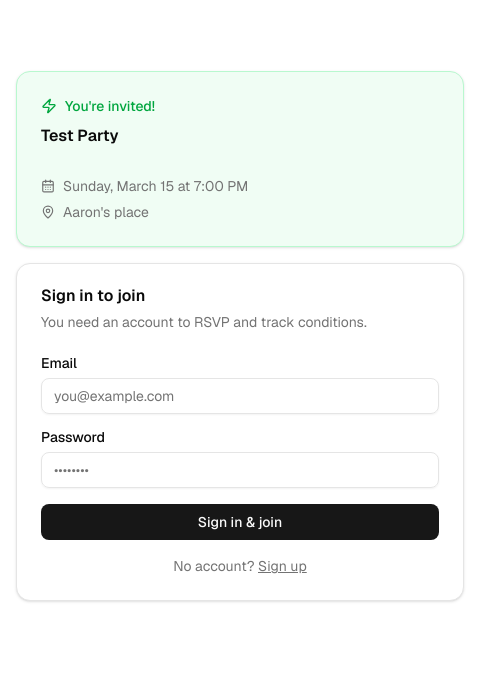
Scenario: ClaimInvite › signup flow › shows error when signup fails
Click the button "Sign up": (282, 566) [258, 556, 307, 576]
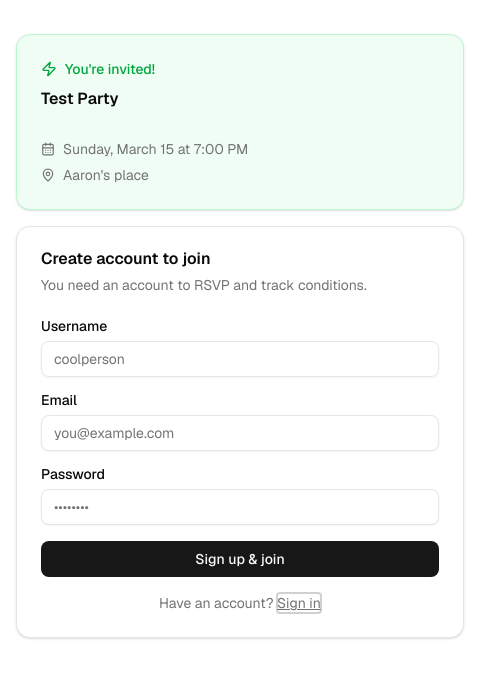
In the field with placeholder "coolperson": (240, 359) [41, 341, 439, 377], type "newuser"
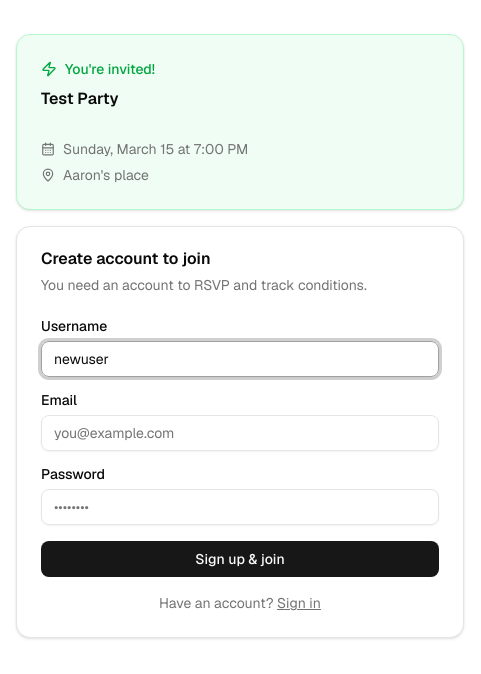
In the field with placeholder "you@example.com": (240, 433) [41, 415, 439, 451], type "taken@test.com"
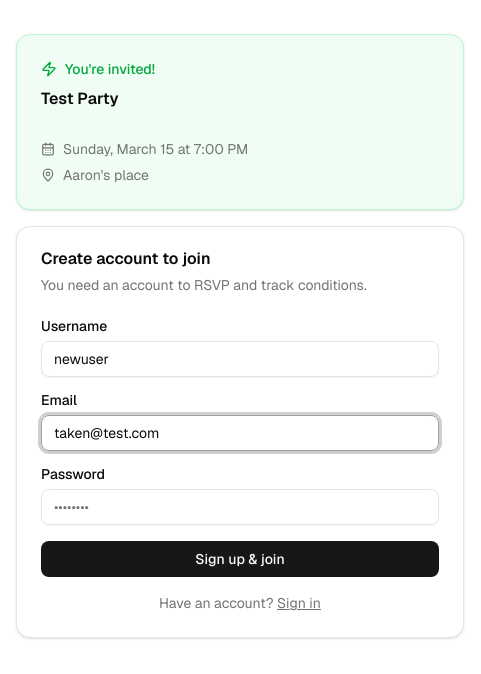
In the password field with placeholder "••••••••": (240, 507) [41, 489, 439, 525], type "password123"
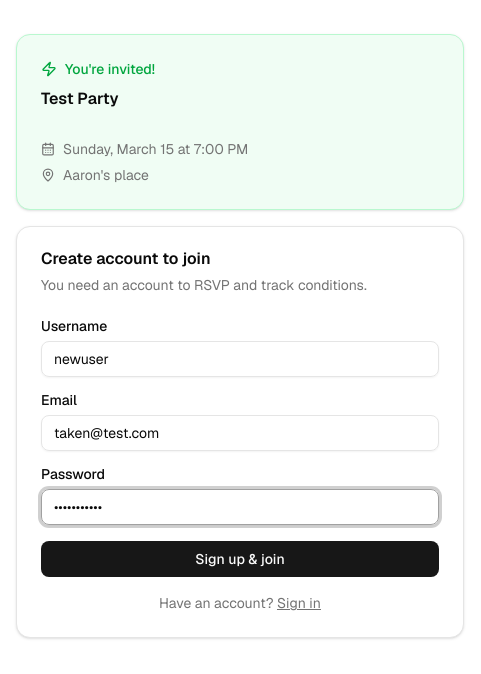
Click the button "Sign up & join": (240, 559) [41, 541, 439, 577]
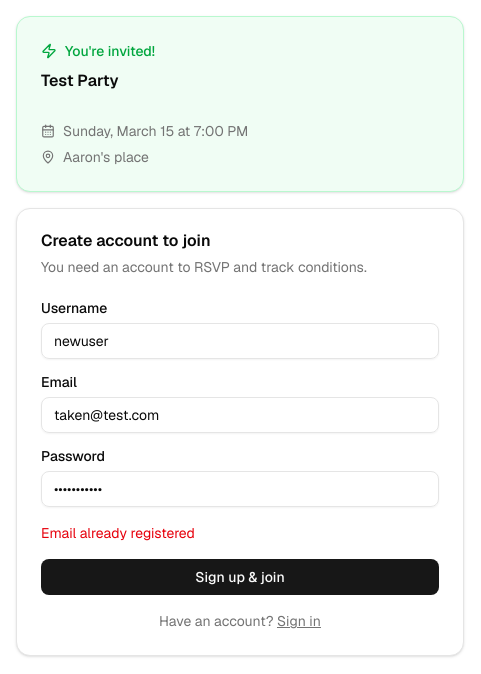
Check: the text "Email already registered" is shown, box [41, 524, 195, 542]
